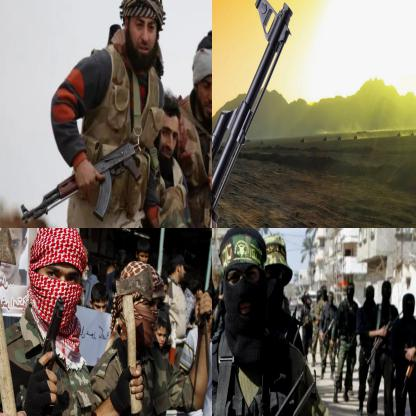pistol: (33, 291, 69, 382)
rifle: (212, 0, 296, 227), (19, 136, 146, 227)
